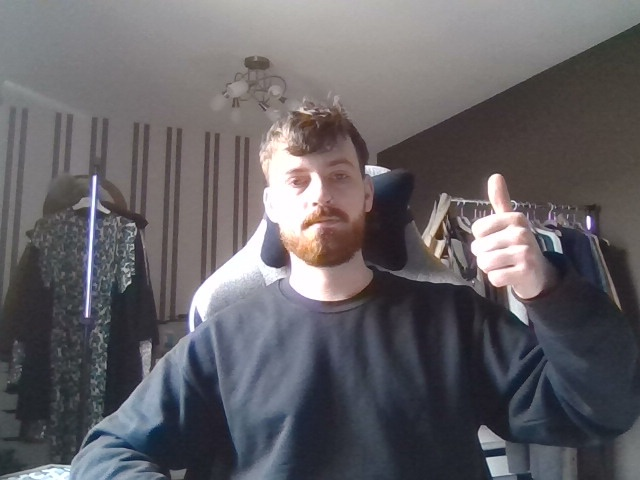Thumbs Up: (455, 153, 560, 312)
